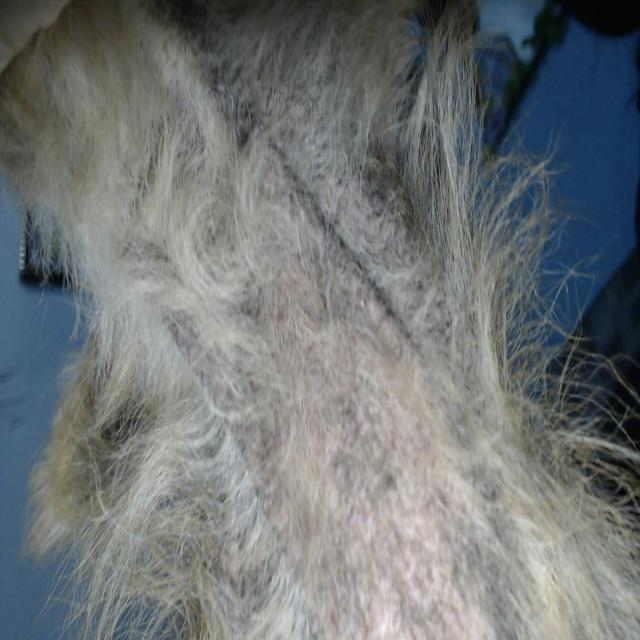demodicosis: (218, 220, 442, 591)
